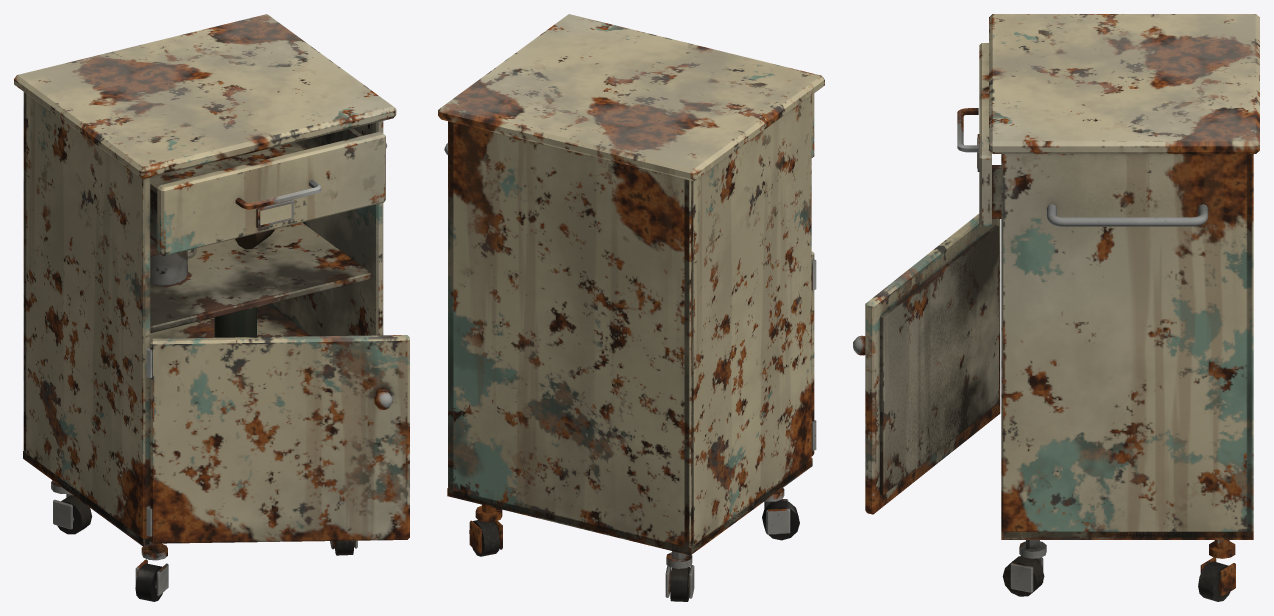
The model's file is BedsideCabinet.fbx.
3 renders of one model, left to right at view 1: azimuth 30°, elevation 25°; view 2: azimuth 150°, elevation 25°; view 3: azimuth 270°, elevation 25°, orthographic. The views are drawn at different scales.
Visible parts, largest first — view 1: BedsideCabinet; view 2: BedsideCabinet; view 3: BedsideCabinet.
Boxes of the visible parts, bbox=[...] form: BedsideCabinet: bbox=[14, 14, 409, 601]; BedsideCabinet: bbox=[438, 14, 824, 601]; BedsideCabinet: bbox=[853, 14, 1259, 601].
Size of the model in its own units: 1.6 by 2.47 by 1.94.
1 material, 1 textured.
